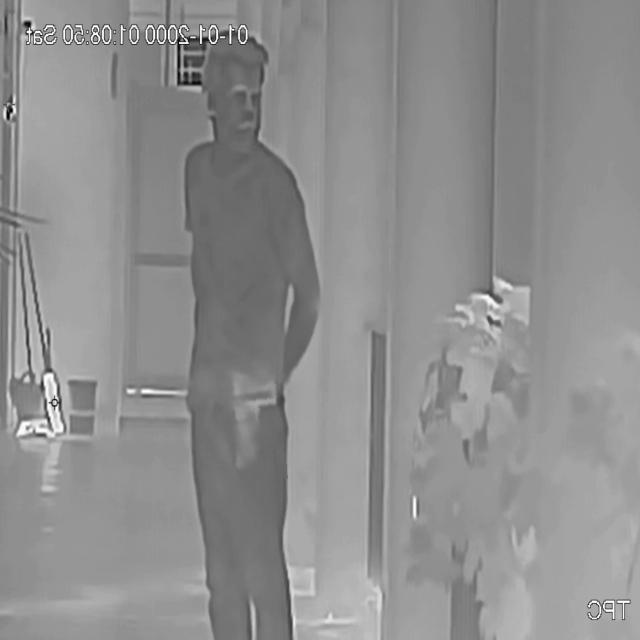Weapon: (218, 356, 286, 484)
